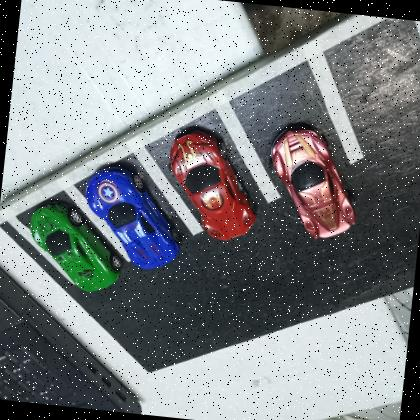Car: (84, 163, 178, 268), (169, 126, 256, 239), (271, 127, 355, 237), (28, 201, 119, 291)
